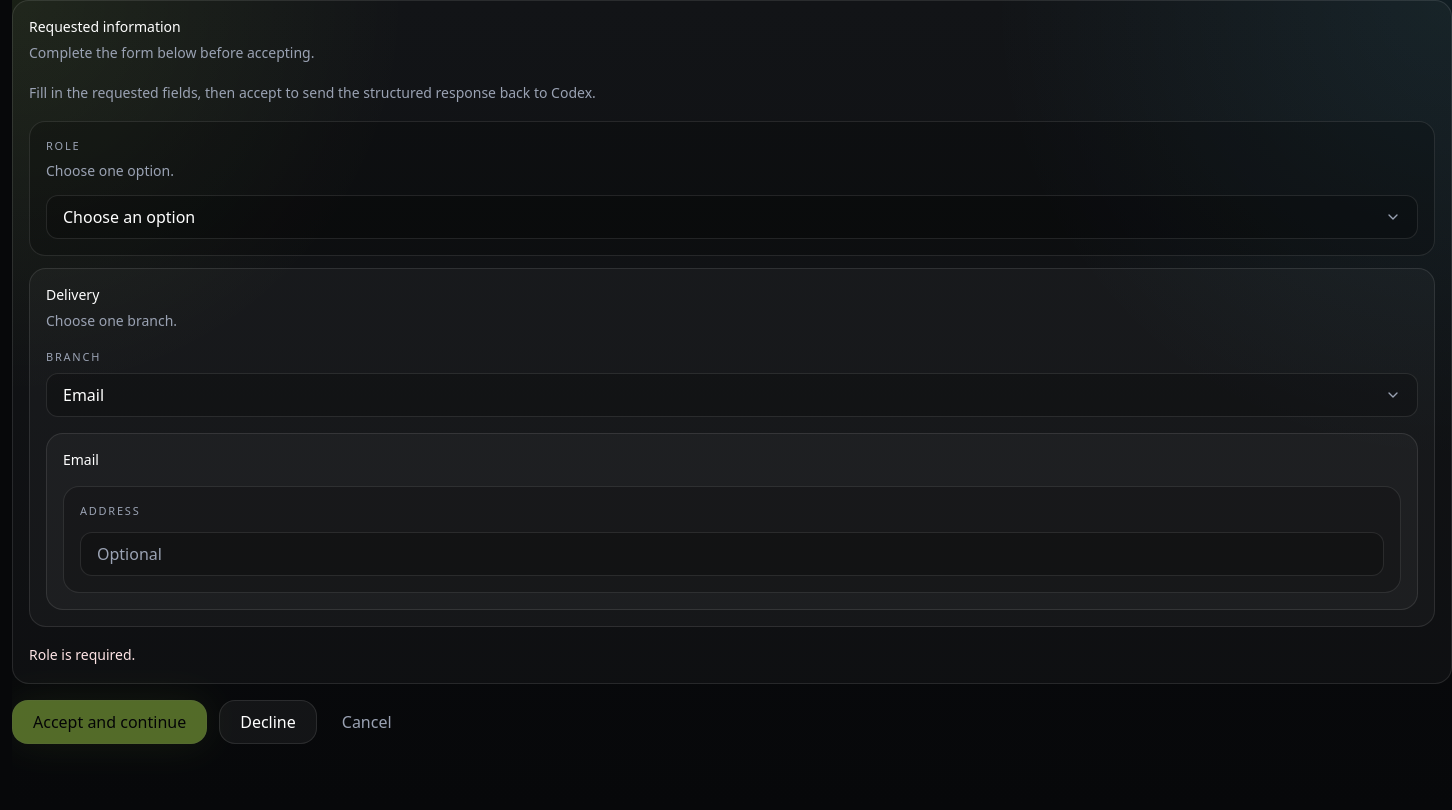
Test: ElicitationForm › falls back to dropdowns for larger single-choice and union option sets
Expected: the dropdown named "branch" is shown, x1=46 y1=373 x2=1418 y2=417
Expected: the button "engineer" is not shown
Press the mouse on the dropdown named "role" at point(129, 216), box x1=46 y1=194 x2=1418 y2=238
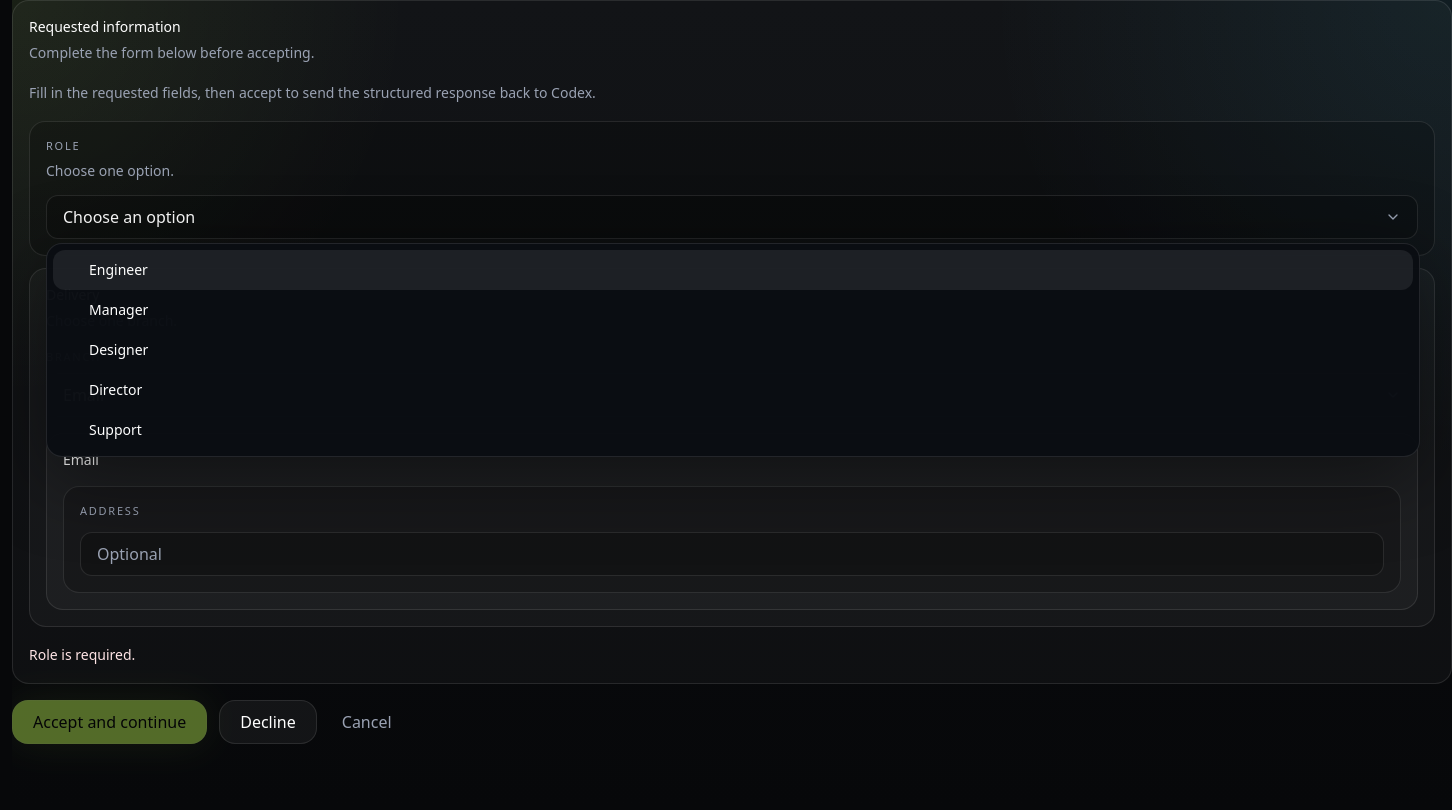
Click the option "Director" at point(116, 390), box x1=89 y1=380 x2=142 y2=399
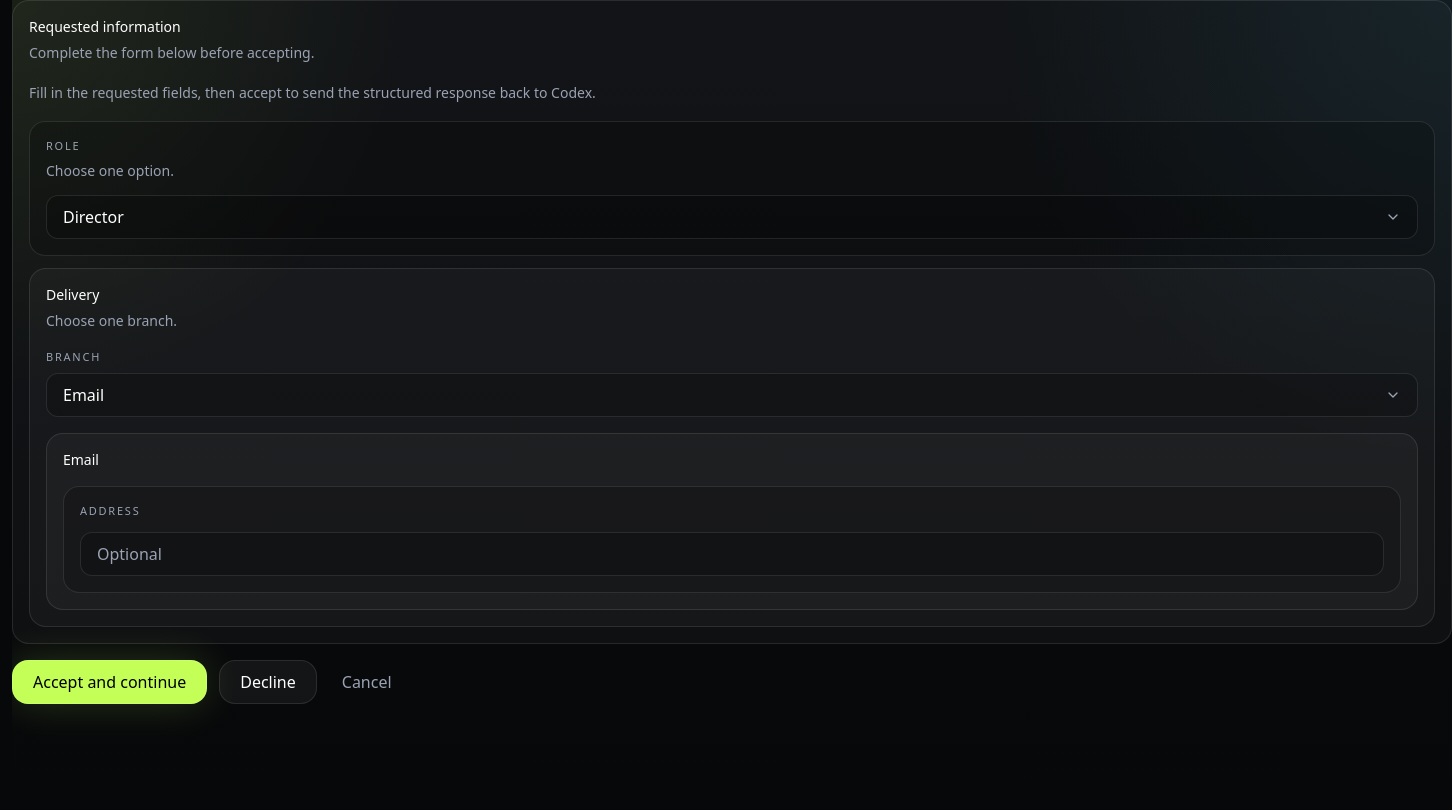
Press the mouse on the dropdown named "branch" at point(84, 395), box x1=46 y1=373 x2=1418 y2=417
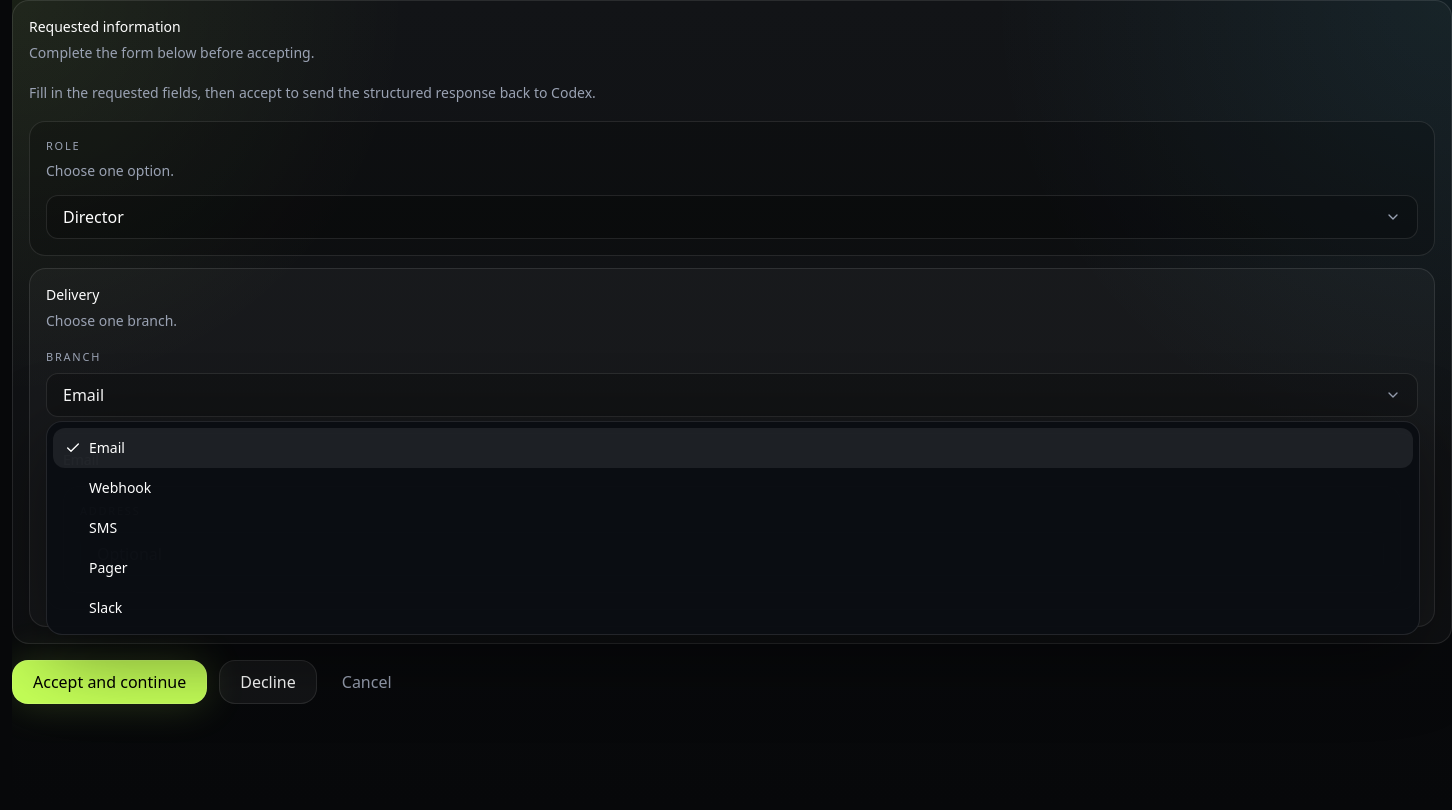
Click the option "Slack" at point(106, 608), box x1=89 y1=598 x2=122 y2=617
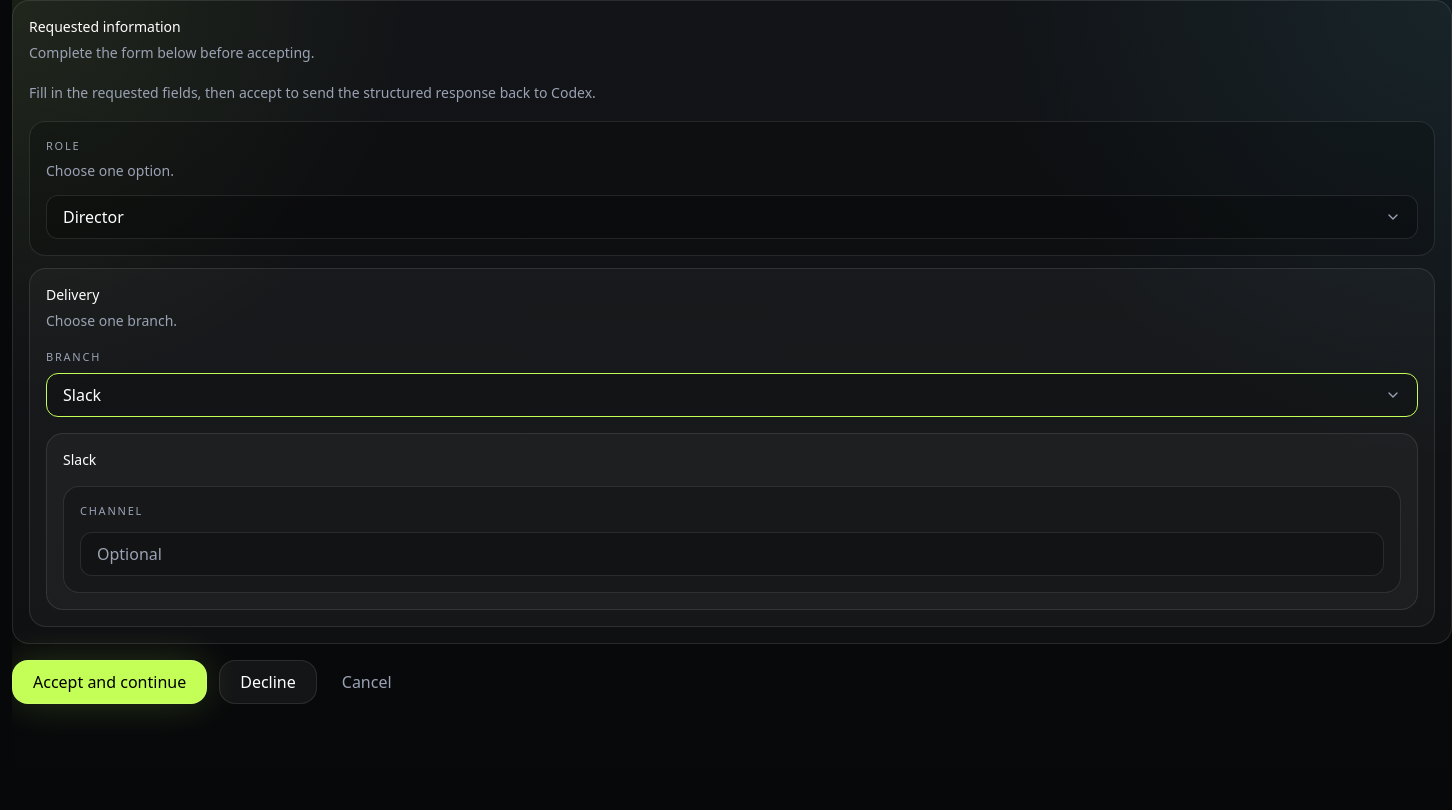
Expected: the field labelled "Channel" is shown, x1=80 y1=532 x2=1384 y2=576
